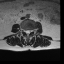CCS_normal: (26, 28, 28, 37)
LFS_normal: (30, 28, 33, 33)
LLS_normal: (28, 28, 30, 35)
RFS_normal: (23, 27, 25, 33)
RLS_normal: (25, 28, 27, 35)
